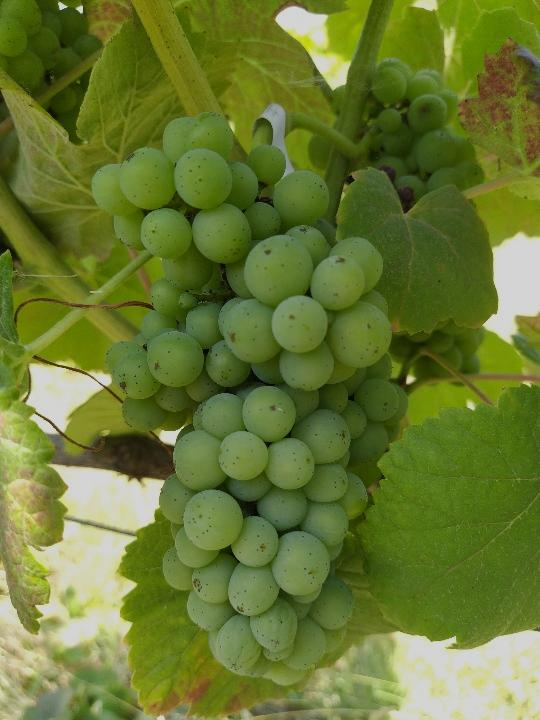grape: (91, 111, 411, 690)
